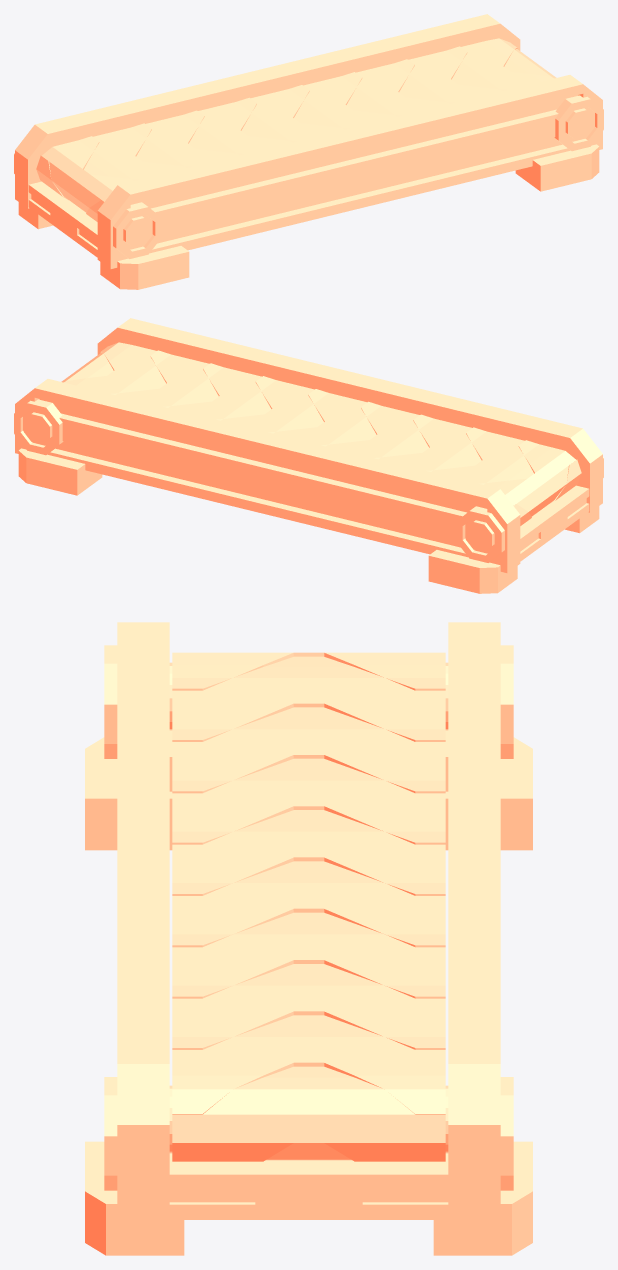
The model's file is belt.glb.
3 views of the same model, one above another, from view 1: azimuth 30°, elevation 25°; view 2: azimuth 150°, elevation 25°; view 3: azimuth 270°, elevation 25° (orthographic). The views are drawn at different scales.
Parts seen in each view (by area): view 1: Conveyor, Belt; view 2: Conveyor, Belt; view 3: Belt, Conveyor, Light.
Boxes of the visible parts, <box> form: Conveyor: <box>14,14,603,289</box>; Belt: <box>36,38,556,221</box>; Conveyor: <box>14,318,603,593</box>; Belt: <box>61,342,581,525</box>; Belt: <box>172,652,445,1161</box>; Conveyor: <box>85,622,532,1255</box>; Light: <box>169,1190,448,1202</box>.
Bounding box in the file's own units: 1 × 0.1732 × 0.3942.
